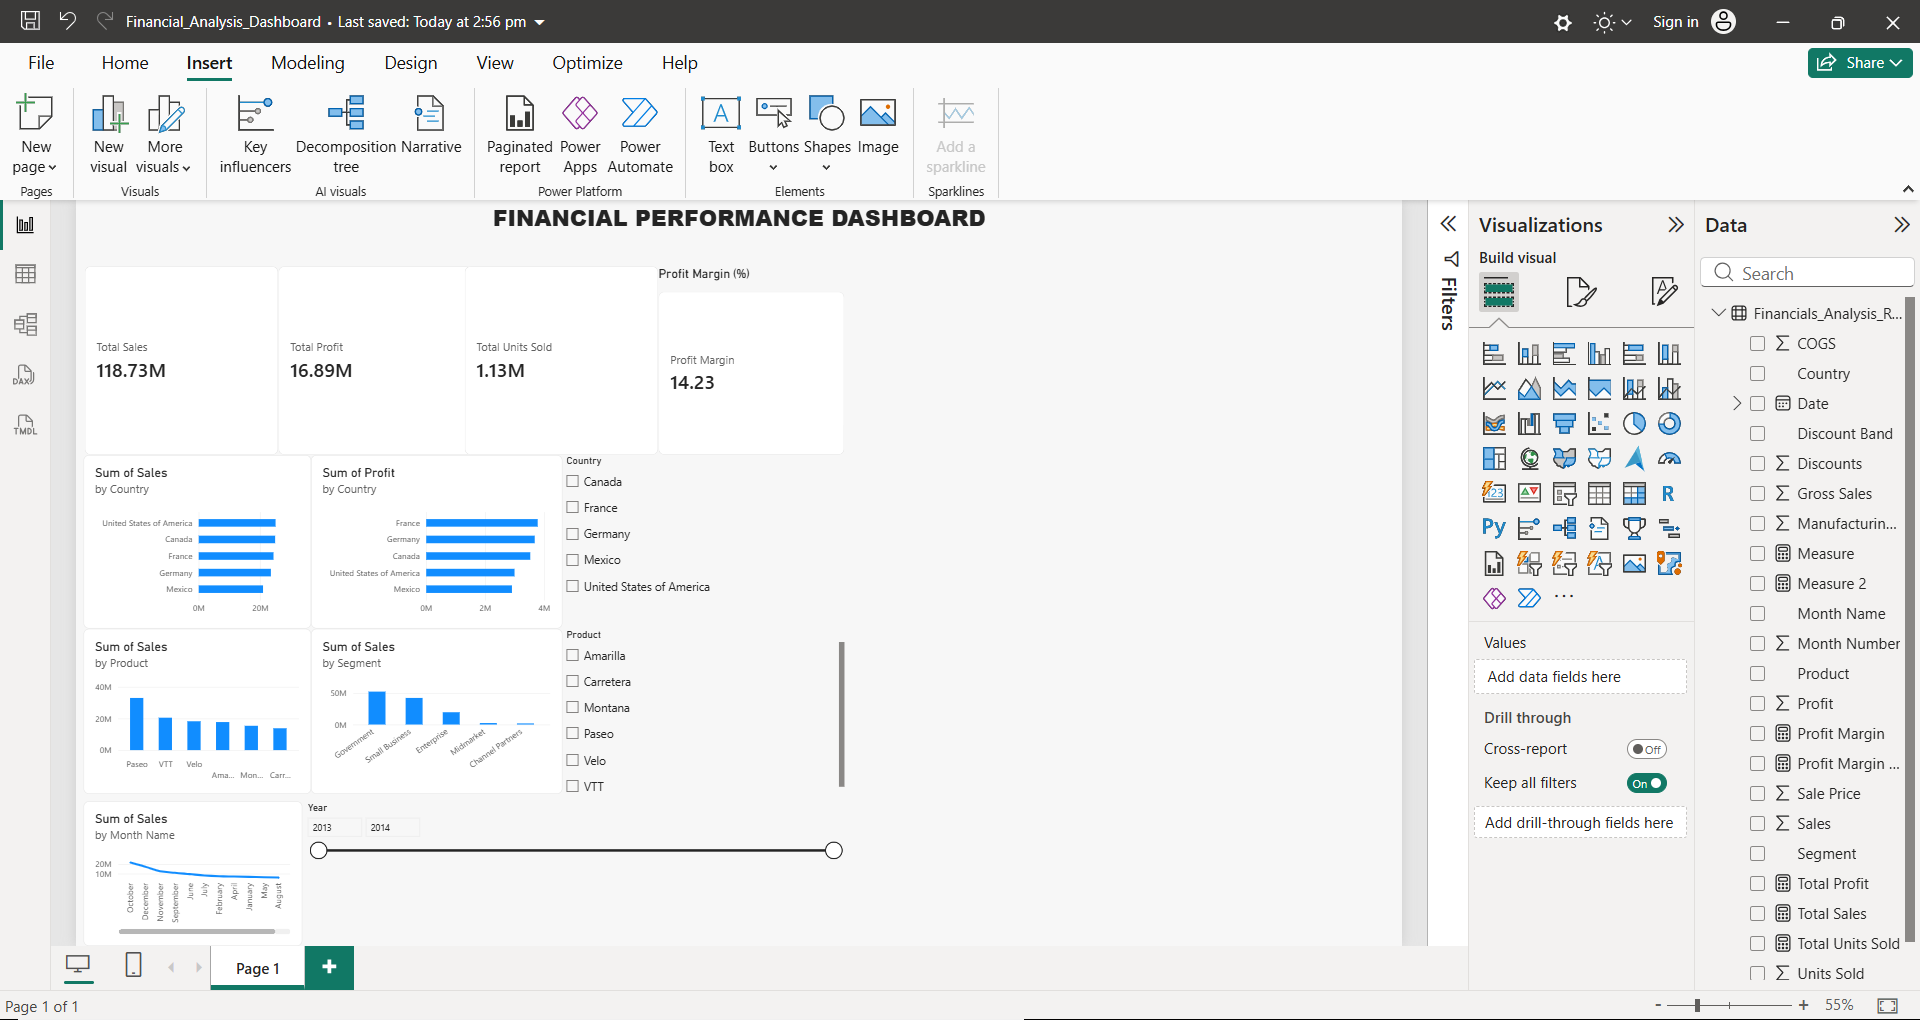

The page's visual inventory and layout, read from the dashboard file:
{"tool":"powerbi","page":{"name":"Page 1","canvas":[1920,1080],"ordinal":0},"visuals":[{"type":"cardVisual","fields":{"Data":["Financials_Analysis_Ready.Total Sales"]},"box":[12.7,95.9,280.5,273.3],"z":0},{"type":"cardVisual","fields":{"Data":["Financials_Analysis_Ready.Total Profit"]},"box":[293.2,95.9,280.5,273.3],"z":1},{"type":"cardVisual","fields":{"Data":["Financials_Analysis_Ready.Total Units Sold"]},"box":[562.8,95.9,280.5,273.3],"z":2},{"type":"cardVisual","title":"Profit Margin (%)","fields":{"Data":["Financials_Analysis_Ready.Profit Margin"]},"box":[843.3,95.9,269.6,273.3],"z":4},{"type":"clusteredBarChart","fields":{"Category":["Financials_Analysis_Ready.Country"],"Y":["Sum(Financials_Analysis_Ready.Sales)"]},"box":[10.9,369.2,329.4,251.5],"z":5},{"type":"clusteredColumnChart","fields":{"Category":["Financials_Analysis_Ready.Product"],"Y":["Sum(Financials_Analysis_Ready.Sales)"]},"box":[10.9,620.7,329.4,238.9],"z":6},{"type":"lineChart","fields":{"Category":["Financials_Analysis_Ready.Month Name"],"Y":["Sum(Financials_Analysis_Ready.Sales)"]},"box":[10.9,870.4,316.7,209.9],"z":7},{"type":"clusteredBarChart","fields":{"Category":["Financials_Analysis_Ready.Country"],"Y":["Sum(Financials_Analysis_Ready.Profit)"]},"box":[340.2,369.2,363.7,251.5],"z":8},{"type":"clusteredColumnChart","fields":{"Category":["Financials_Analysis_Ready.Segment"],"Y":["Sum(Financials_Analysis_Ready.Sales)"]},"box":[340.2,620.7,363.7,238.9],"z":9},{"type":"slicer","fields":{"Values":["Financials_Analysis_Ready.Country"]},"box":[702.1,369.2,410.8,251.5],"z":10},{"type":"slicer","fields":{"Values":["Financials_Analysis_Ready.Product"]},"box":[702.1,620.7,410.8,240.7],"z":11},{"type":"slicer","fields":{"Values":["Financials_Analysis_Ready.Year"]},"box":[327.5,870.4,785.4,209.9],"z":12},{"type":"textbox","box":[0,1.8,1920.1,94.1],"z":13}]}

Visuals, with their boxes on the page's 1920x1080 design canvas (x1, y1, x2, y2). These are canvas units, not pixel positions in the 1920x1020 screenshot, which may show the page scaled, cropped or inside an application window:
cardVisual - Financials_Analysis_Ready.Total Sales: [13,96,293,369]
cardVisual - Financials_Analysis_Ready.Total Profit: [293,96,574,369]
cardVisual - Financials_Analysis_Ready.Total Units Sold: [563,96,843,369]
"Profit Margin (%)" cardVisual: [843,96,1113,369]
clusteredBarChart - Financials_Analysis_Ready.Country x Sum(Financials_Analysis_Ready.Sales): [11,369,340,621]
clusteredColumnChart - Financials_Analysis_Ready.Product x Sum(Financials_Analysis_Ready.Sales): [11,621,340,860]
lineChart - Financials_Analysis_Ready.Month Name x Sum(Financials_Analysis_Ready.Sales): [11,870,328,1080]
clusteredBarChart - Financials_Analysis_Ready.Country x Sum(Financials_Analysis_Ready.Profit): [340,369,704,621]
clusteredColumnChart - Financials_Analysis_Ready.Segment x Sum(Financials_Analysis_Ready.Sales): [340,621,704,860]
slicer - Financials_Analysis_Ready.Country: [702,369,1113,621]
slicer - Financials_Analysis_Ready.Product: [702,621,1113,861]
slicer - Financials_Analysis_Ready.Year: [328,870,1113,1080]
textbox: [0,2,1920,96]
